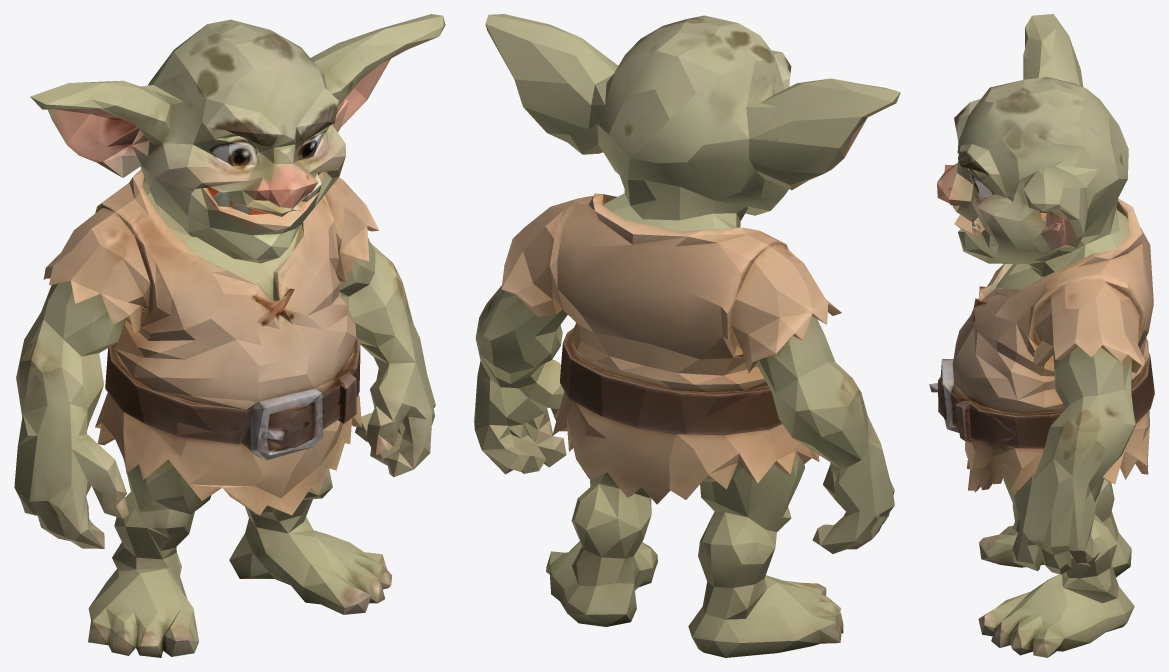
Rendered from goblin.glb.
3 views of the same model, side by side, from view 1: azimuth 30°, elevation 25°; view 2: azimuth 150°, elevation 25°; view 3: azimuth 270°, elevation 25° (orthographic). The views are drawn at different scales.
Visible parts, largest first — view 1: model; view 2: model; view 3: model.
Part boxes in pixels (x1,y1,x2,y2): model: (14, 14, 445, 657); model: (474, 14, 900, 657); model: (929, 14, 1154, 657).
Size of the model in its own units: 1.4 by 1.9 by 0.7557.
1 material, 1 textured.
